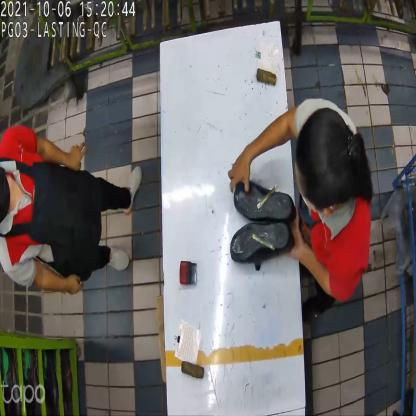shoes: (230, 172, 296, 268)
stamp: (178, 257, 198, 287), (234, 174, 249, 199)
